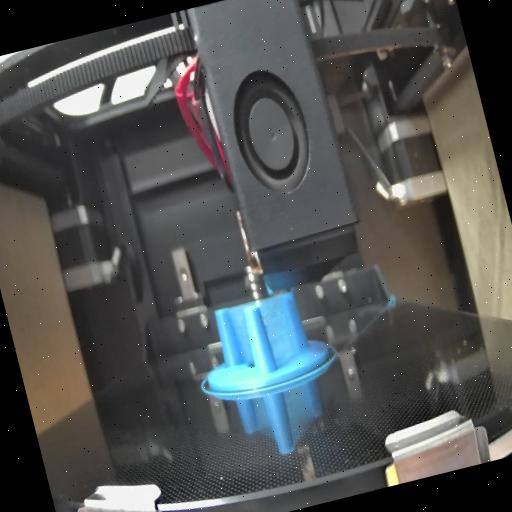stringing: (258, 292, 304, 366), (224, 307, 258, 370)
